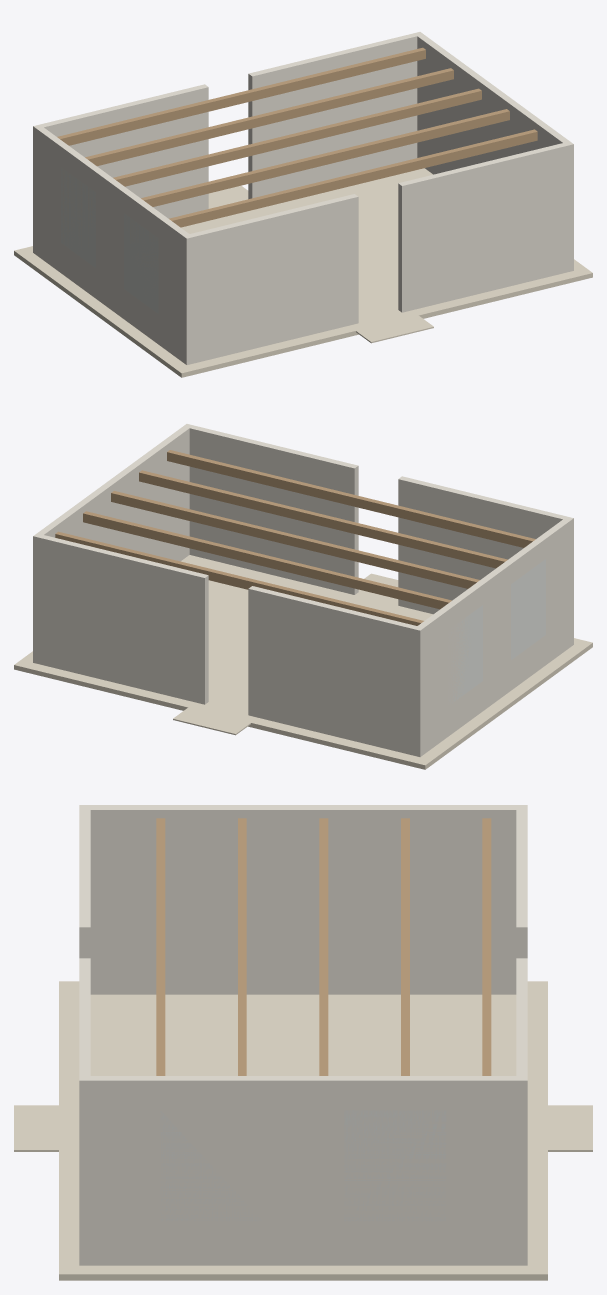
Rendered from events-gatherings-hub.lod2.glb.
3 views of the same model, one above another, from view 1: azimuth 30°, elevation 25°; view 2: azimuth 150°, elevation 25°; view 3: azimuth 270°, elevation 25° (orthographic). The views are drawn at different scales.
Bounding box in the file's own units: 17 × 7.58 × 14.2.
